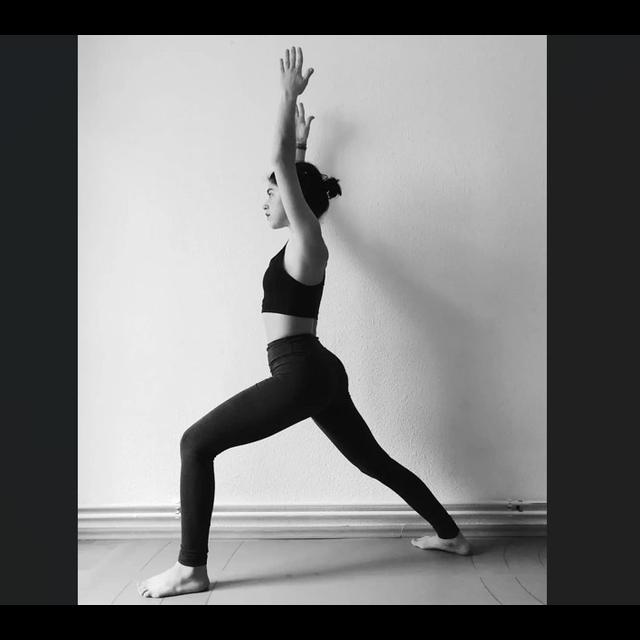Warrior_I: (135, 41, 479, 606)
